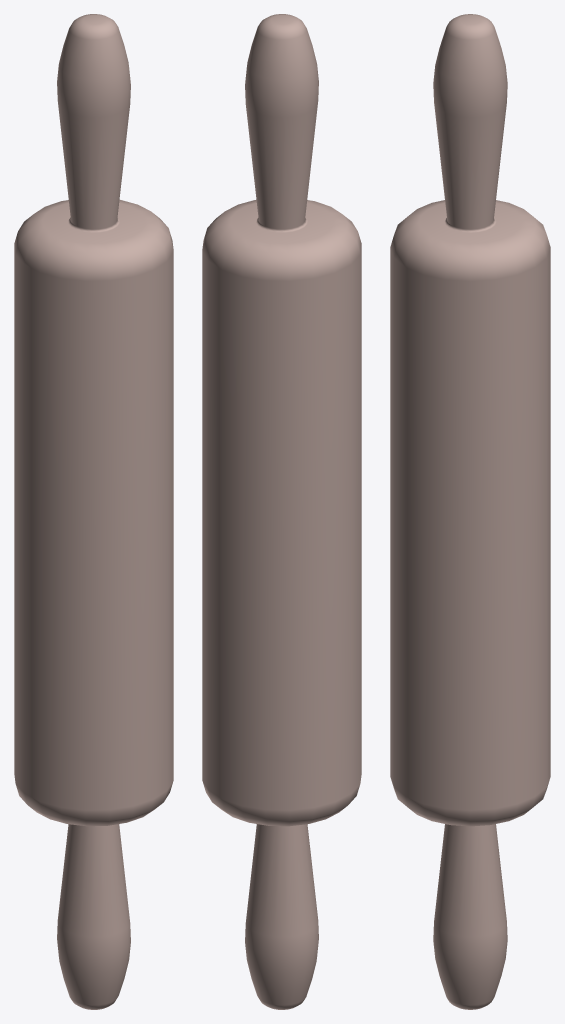
File: Store_3_Rolling_Pin_1.glb
3 views of the same model, side by side, from view 1: azimuth 30°, elevation 25°; view 2: azimuth 150°, elevation 25°; view 3: azimuth 270°, elevation 25° (orthographic).
Visible parts, largest first — view 1: Store_3_Rolling_Pin_1; view 2: Store_3_Rolling_Pin_1; view 3: Store_3_Rolling_Pin_1.
Part boxes in pixels (box(x1,y1,x2,y2)): Store_3_Rolling_Pin_1: box(14, 14, 173, 1009); Store_3_Rolling_Pin_1: box(202, 14, 361, 1009); Store_3_Rolling_Pin_1: box(390, 14, 550, 1009).
Size of the model in its own units: 0.1255 by 0.8491 by 0.1255.
1 material, 1 textured.
